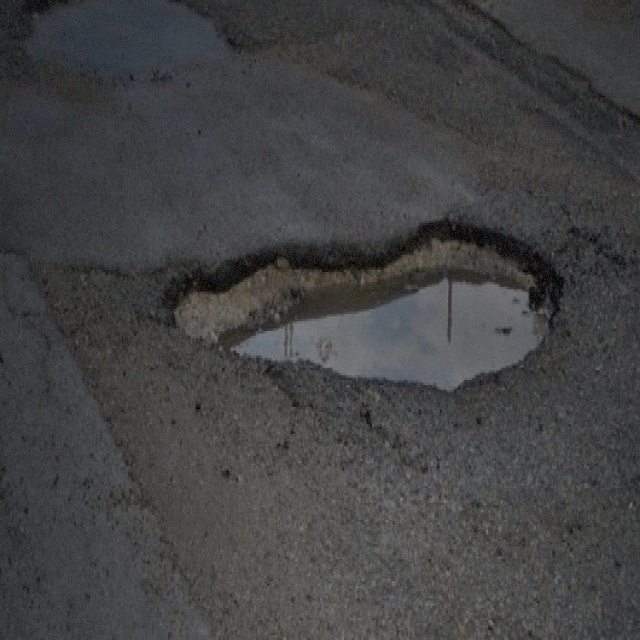pothole: (157, 211, 566, 404)
